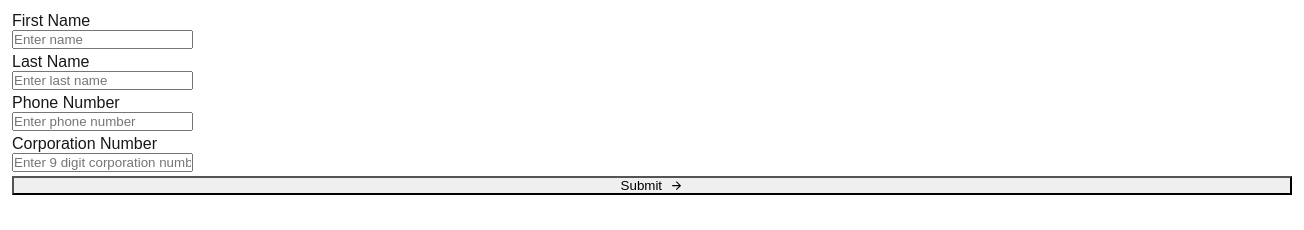
Test: UserStepForm › should show error if phone number is invalid
Step 1. Type "John" into the field with test id "firstName" → (102, 40), box left=12, top=30, right=193, bottom=49
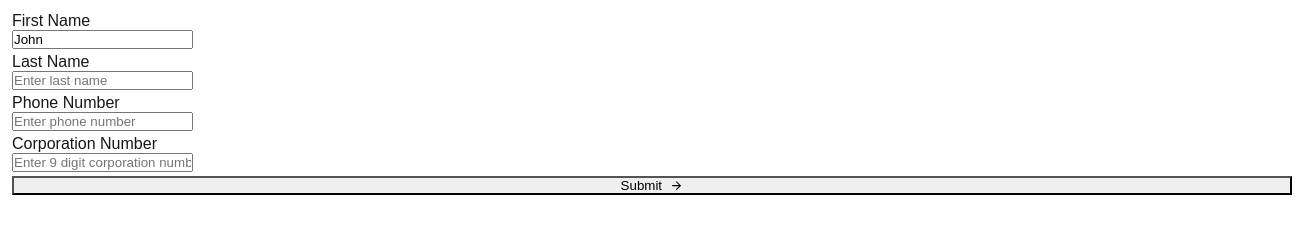
Step 2. Type "Doe" into the field with test id "lastName" → (102, 80), box left=12, top=71, right=193, bottom=90
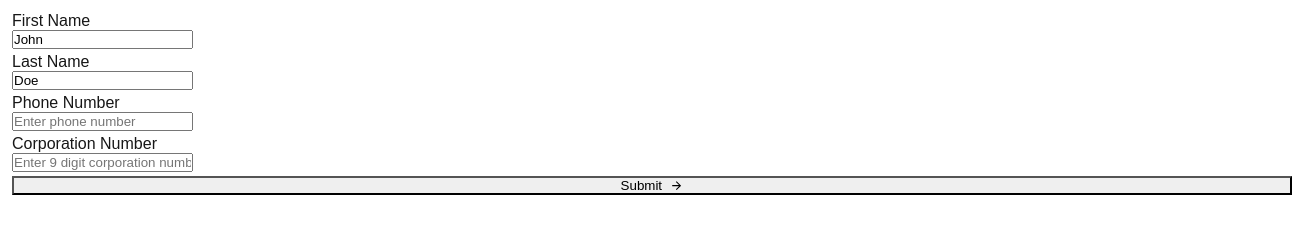
Step 3. Type "12345" into the field with test id "phone" → (102, 122), box left=12, top=112, right=193, bottom=131
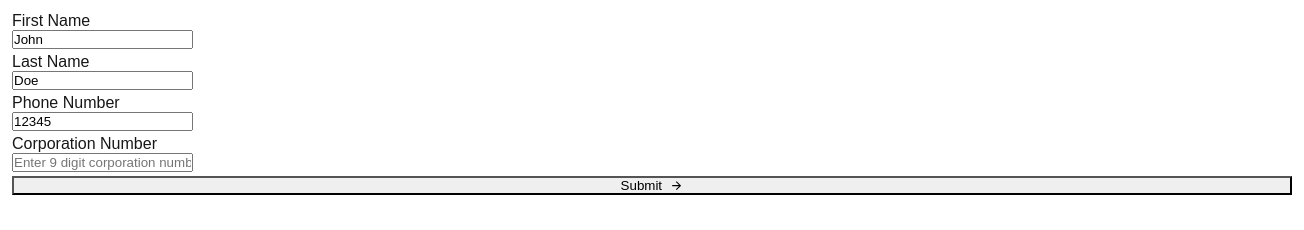
Step 4. Type "123456789" into the field with test id "corporationNumber" → (102, 162), box left=12, top=153, right=193, bottom=172
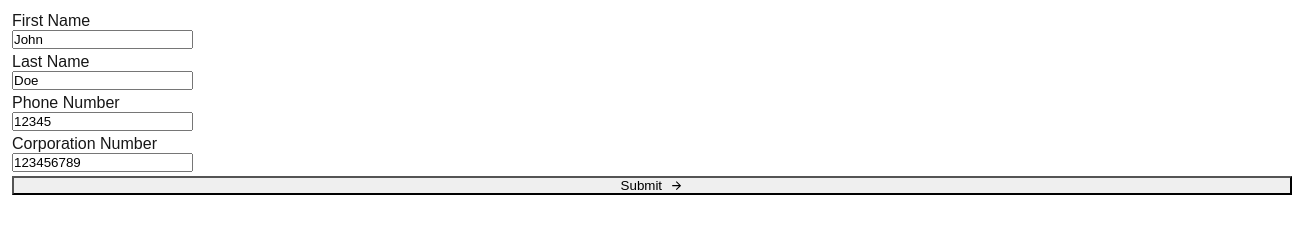
Step 5. Click the button "Submit" → (652, 186), box left=12, top=176, right=1292, bottom=195
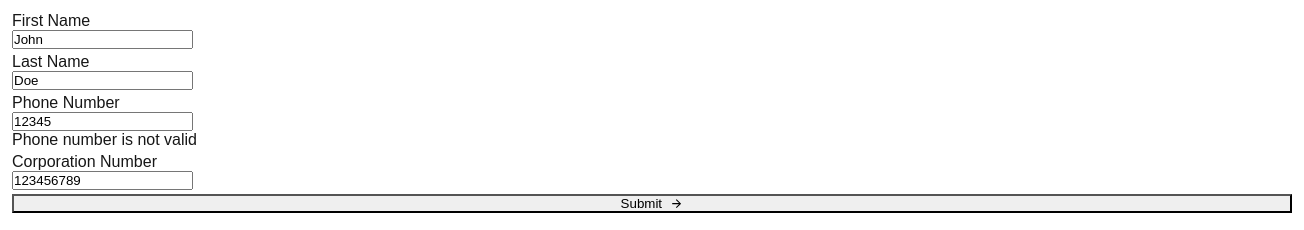
Check: the text "Phone number is not valid" is shown, box left=12, top=131, right=197, bottom=148
